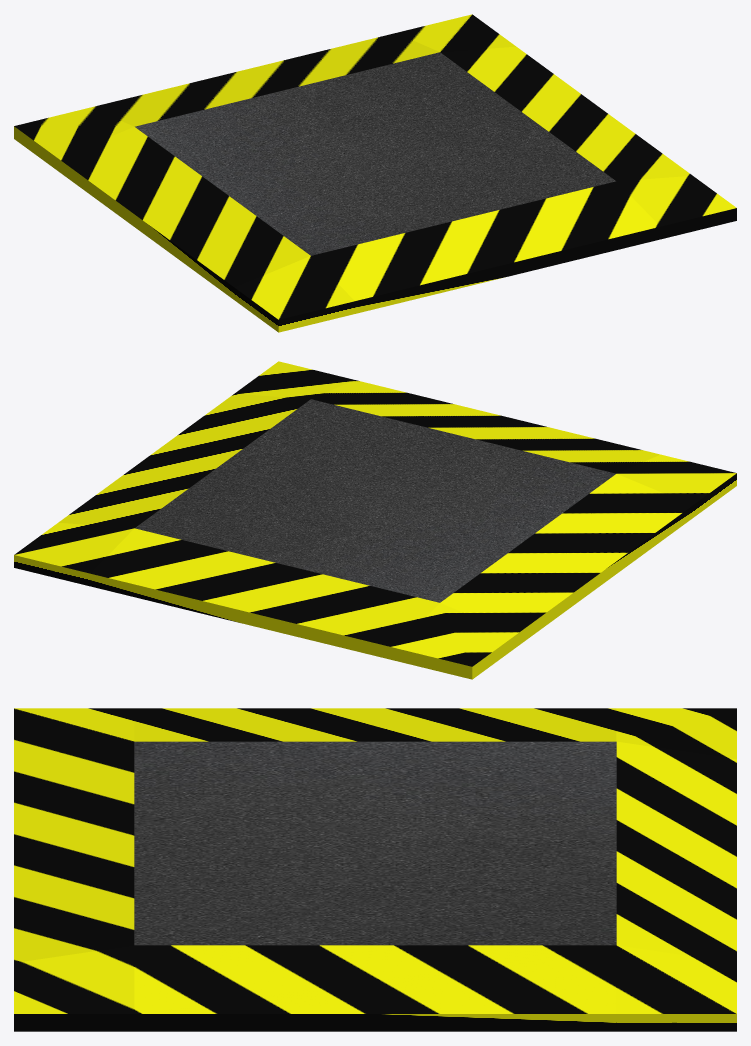
File: jumppad 1.fbx
3 views of the same model, one above another, from view 1: azimuth 30°, elevation 25°; view 2: azimuth 150°, elevation 25°; view 3: azimuth 270°, elevation 25° (orthographic). The views are drawn at different scales.
Visible parts, largest first — view 1: Cube; view 2: Cube; view 3: Cube.
Boxes of the visible parts, x1,y1,x2,y2 form: Cube: (14,14,736,332); Cube: (14,361,736,679); Cube: (14,708,736,1031).
Bounding box in the file's own units: 600 × 32.34 × 600.
